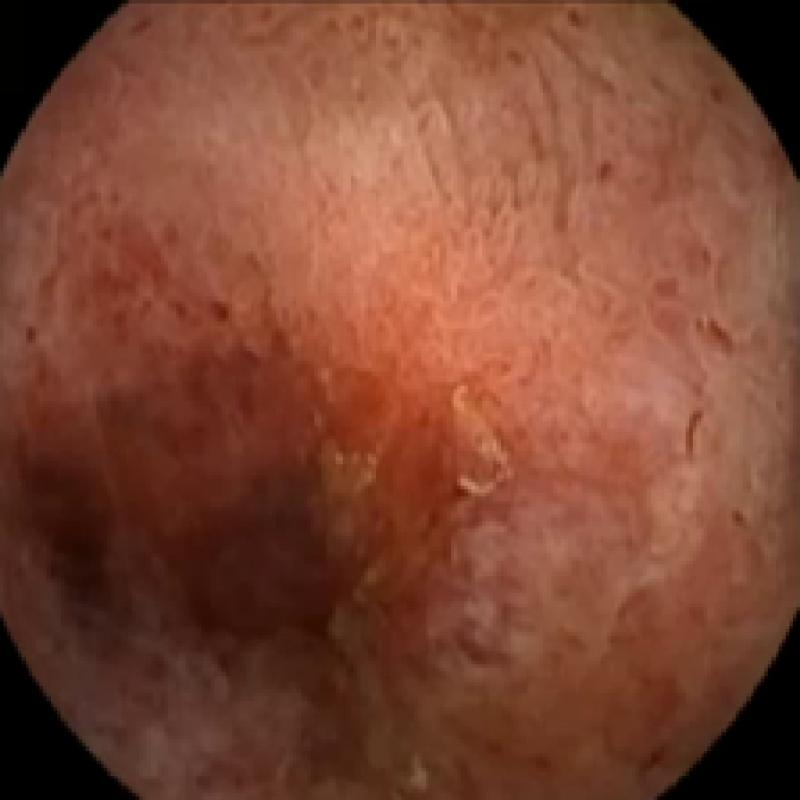bleeding: (3, 278, 482, 800)
